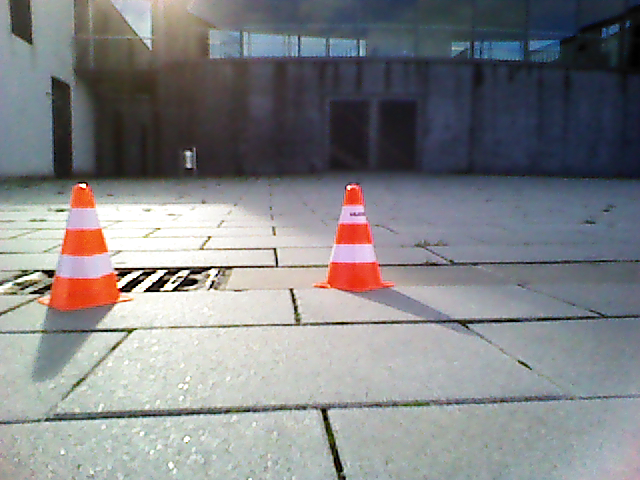orangeconesmall: (49, 183, 120, 304), (330, 183, 381, 286)
